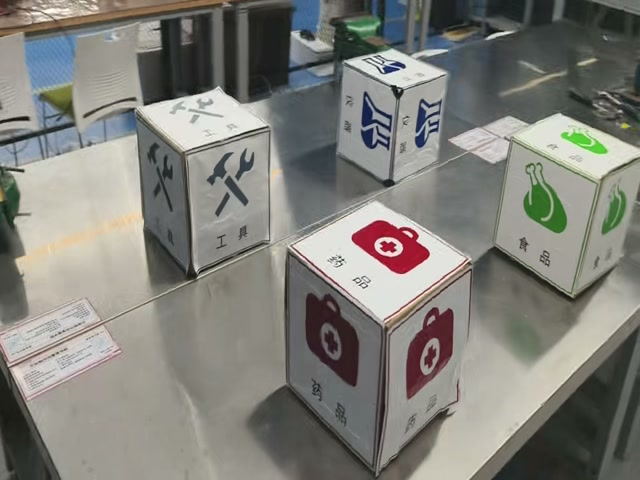Cube_food: (512, 114, 639, 184)
Cube_ins: (344, 50, 446, 92)
Cube_medicine: (289, 202, 470, 326)
Cube_tool: (136, 88, 269, 155)
